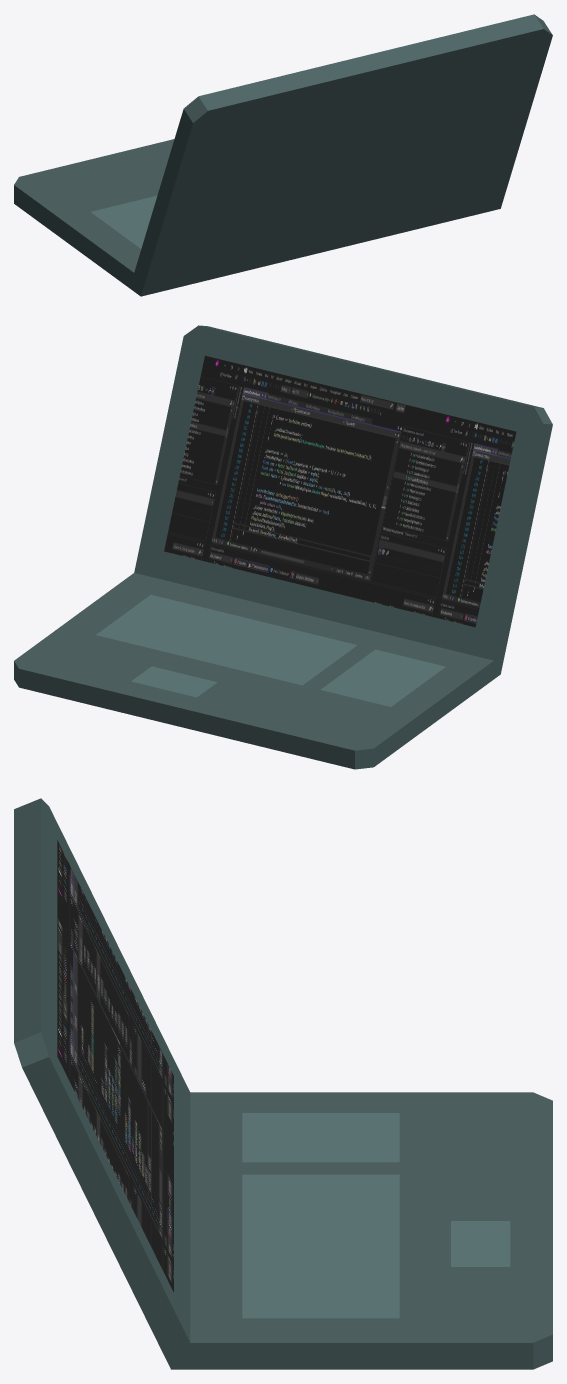
File: Notmacbook.fbx
The picture shows the model from 3 angles, top to bottom: view 1: azimuth 30°, elevation 25°; view 2: azimuth 150°, elevation 25°; view 3: azimuth 270°, elevation 25°; orthographic projection. The views are drawn at different scales.
Visible parts, largest first — view 1: laptop; view 2: laptop; view 3: laptop.
Boxes of the visible parts, x1=… form: laptop: x1=14, y1=14, x2=552, y2=296; laptop: x1=14, y1=325, x2=552, y2=769; laptop: x1=14, y1=798, x2=552, y2=1369.
Bounding box in the file's own units: 26.4 × 16.18 × 24.01.
